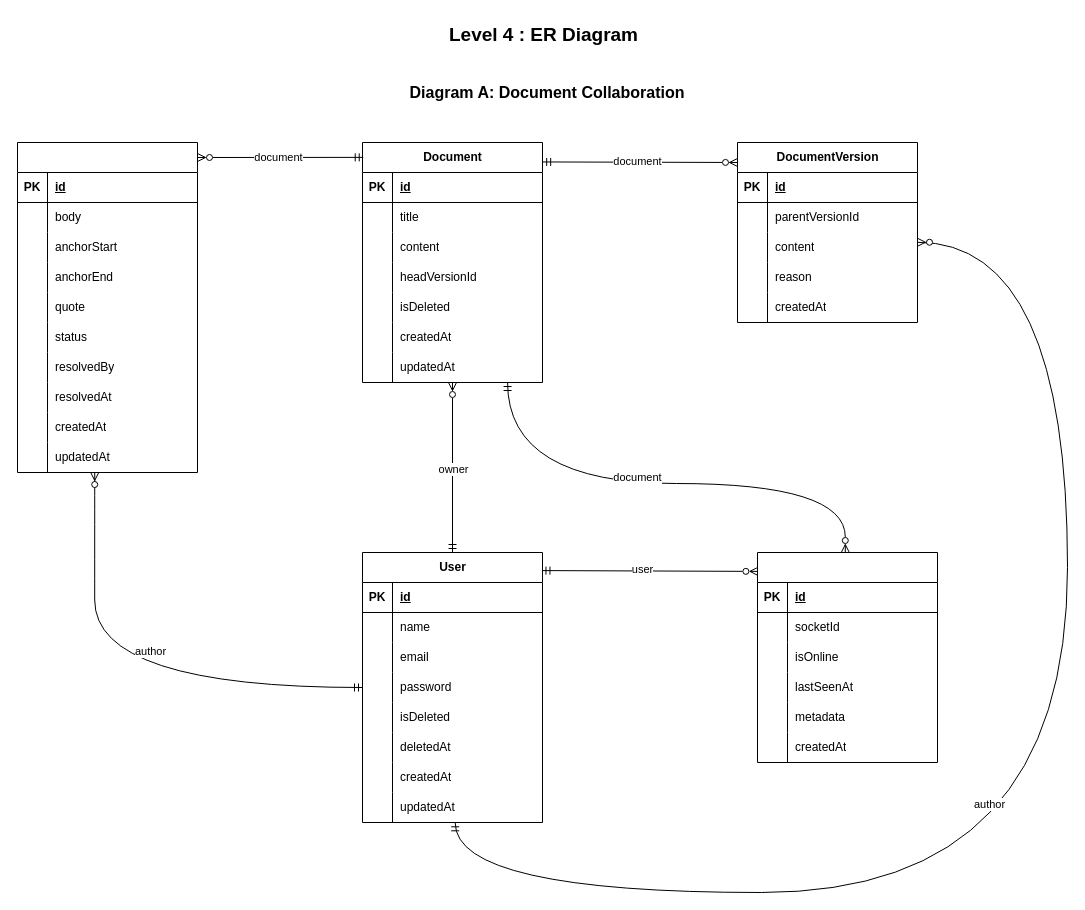
This 1085x910 diagram has some shape labels left out. Each missing label, with the box of its shape:
Comment: (16, 142, 198, 472)
Presence: (756, 552, 938, 762)
